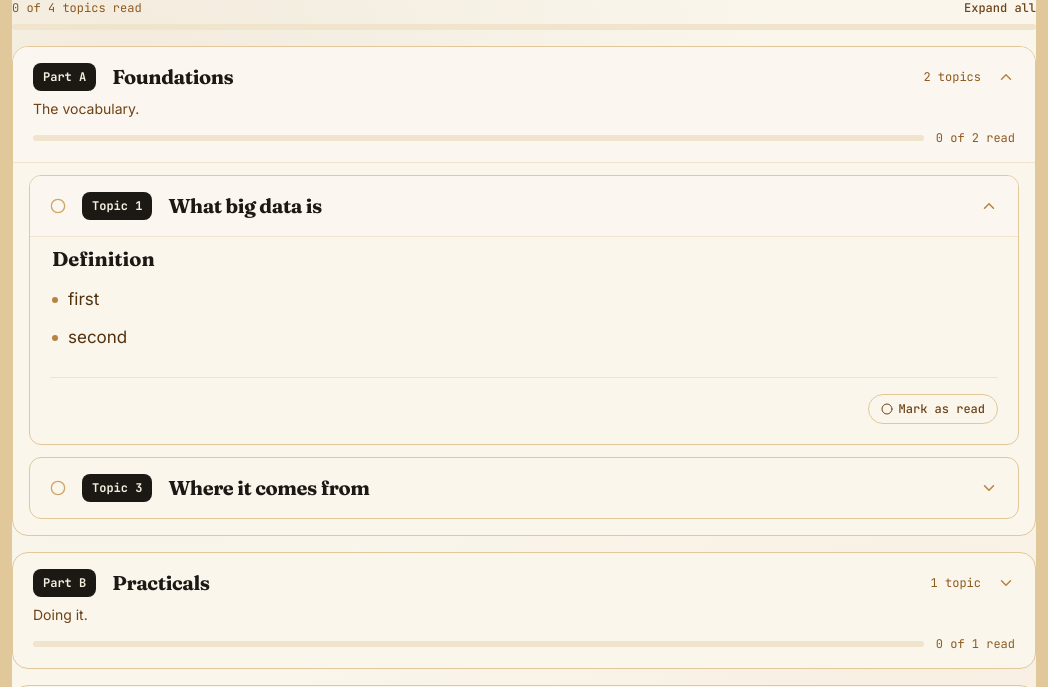
Test: grouping the notes by part › expands every part when "Expand all" is used, or the topics would open unseen
The width and height of the screenshot is (1048, 687).
Click the button "Expand all".
click(1000, 8)  # box 964,0 -> 1036,16
(page scrolled)
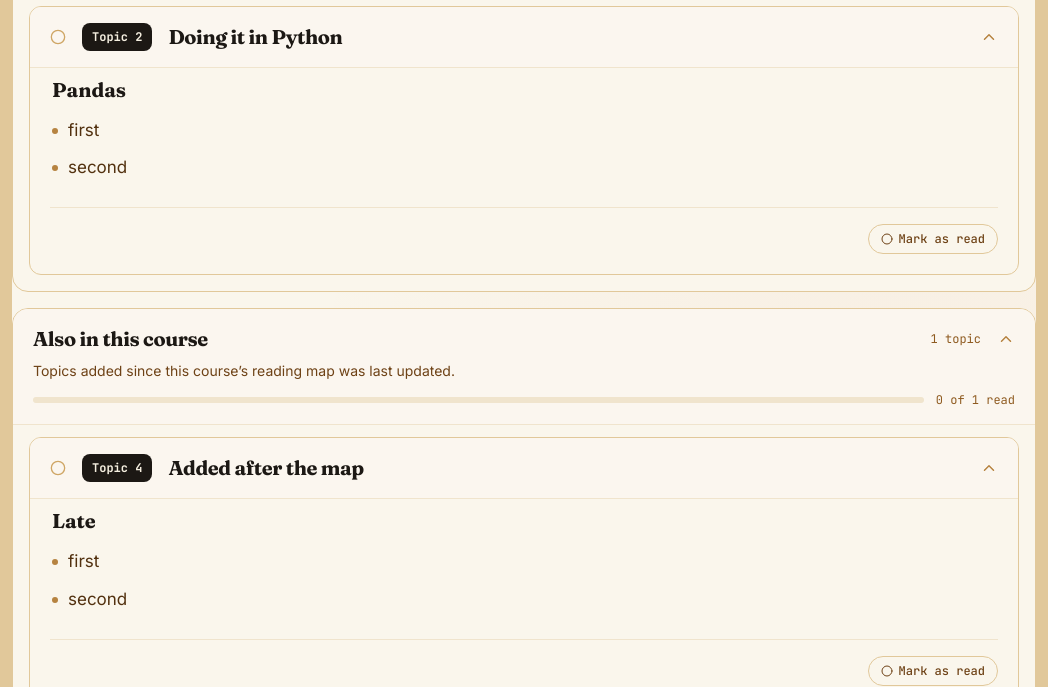
Result: the button "Topic 2 Doing it in Python" is shown at 30,6 -> 1018,66
Result: the button "Topic 4 Added after the map" is shown at 30,438 -> 1018,498
